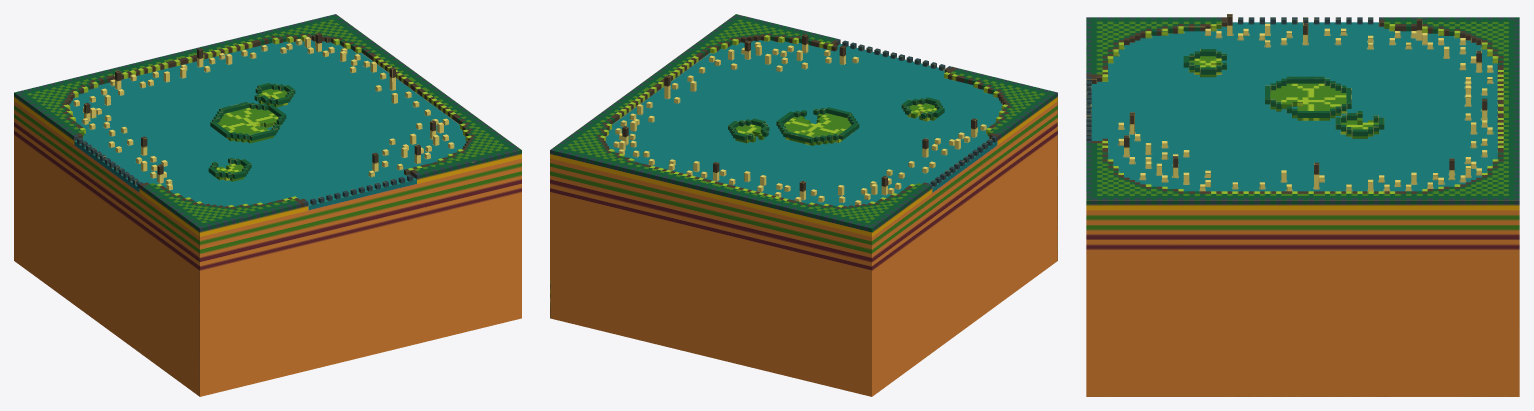
Rendered from swamp_3_tile.glb.
The picture shows the model from 3 angles, left to right: view 1: azimuth 30°, elevation 25°; view 2: azimuth 150°, elevation 25°; view 3: azimuth 270°, elevation 25°; orthographic projection. The views are drawn at different scales.
Parts seen in each view (by area): view 1: swamp_3_tile; view 2: swamp_3_tile; view 3: swamp_3_tile.
Boxes of the visible parts, x1=… form: swamp_3_tile: x1=14, y1=14, x2=521, y2=396; swamp_3_tile: x1=550, y1=14, x2=1057, y2=396; swamp_3_tile: x1=1086, y1=14, x2=1519, y2=396.
Size of the model in its own units: 8 by 4.4 by 8.
Materials: 1 (1 with a texture image).
